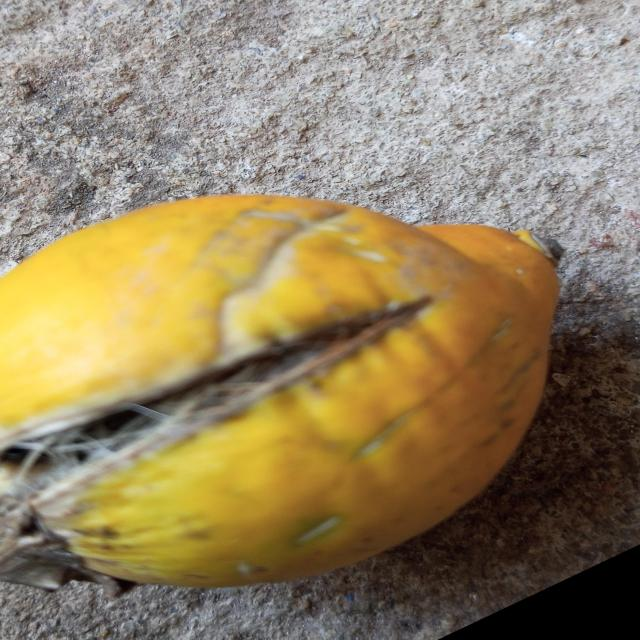damaged: (0, 195, 557, 590)
